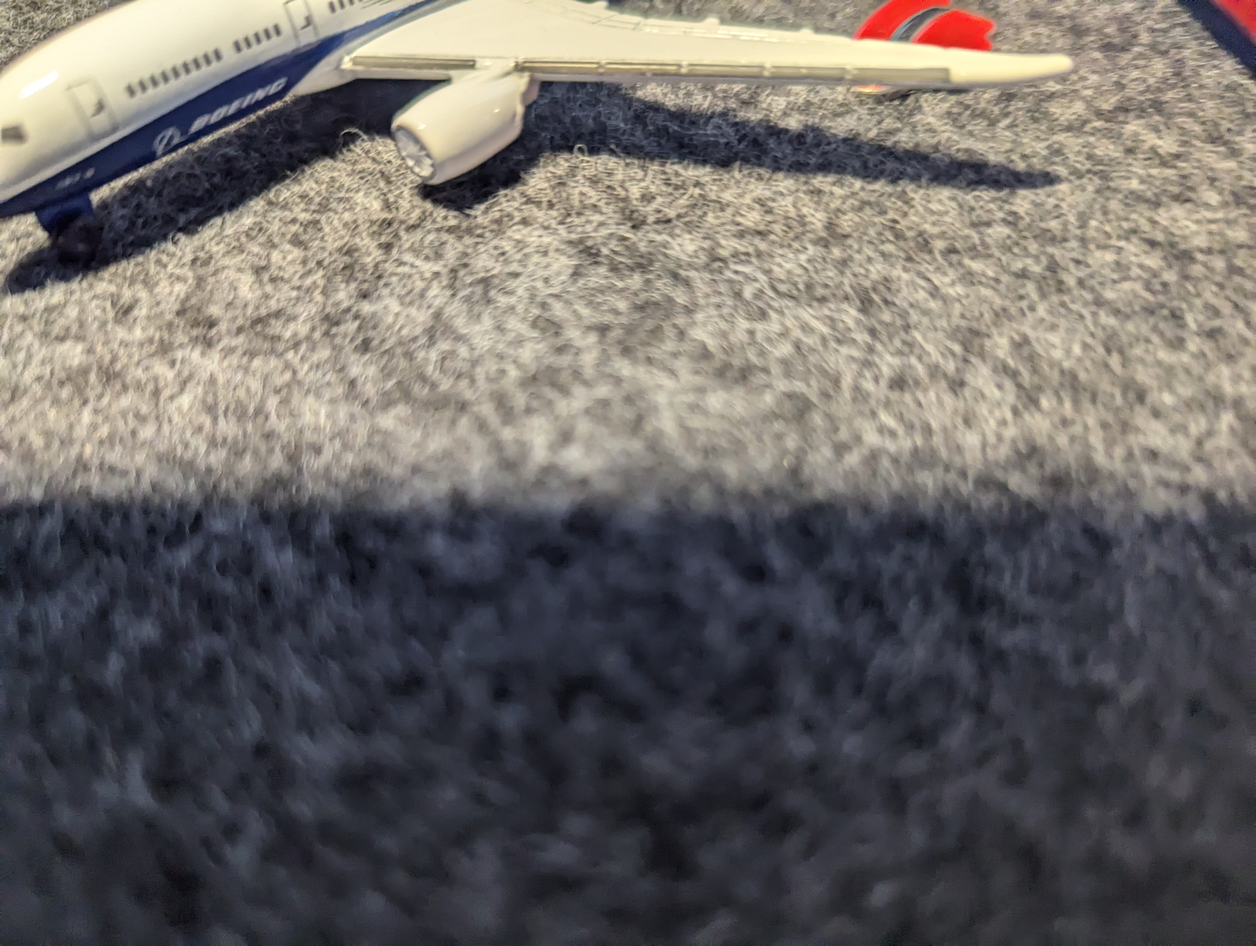Airplane: (0, 0, 1102, 307)
Red-Hat: (832, 0, 1035, 95)
